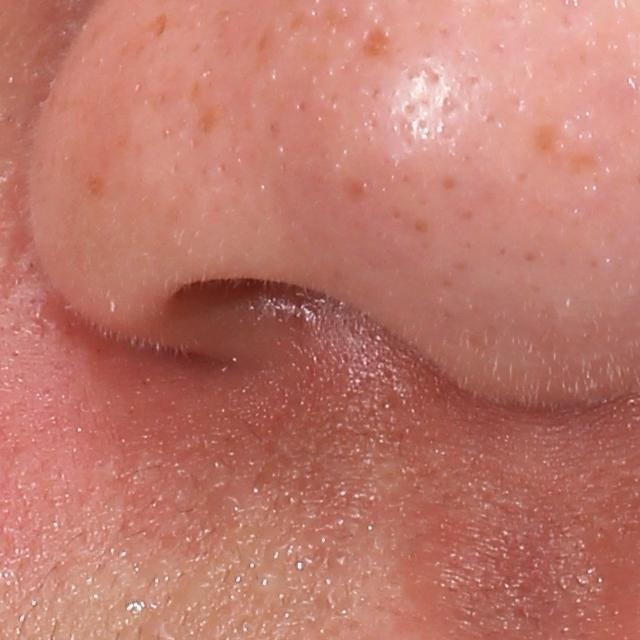melasma: (526, 115, 569, 158), (356, 22, 396, 65), (192, 101, 224, 141), (339, 173, 377, 204), (79, 168, 114, 201), (144, 9, 171, 43)
